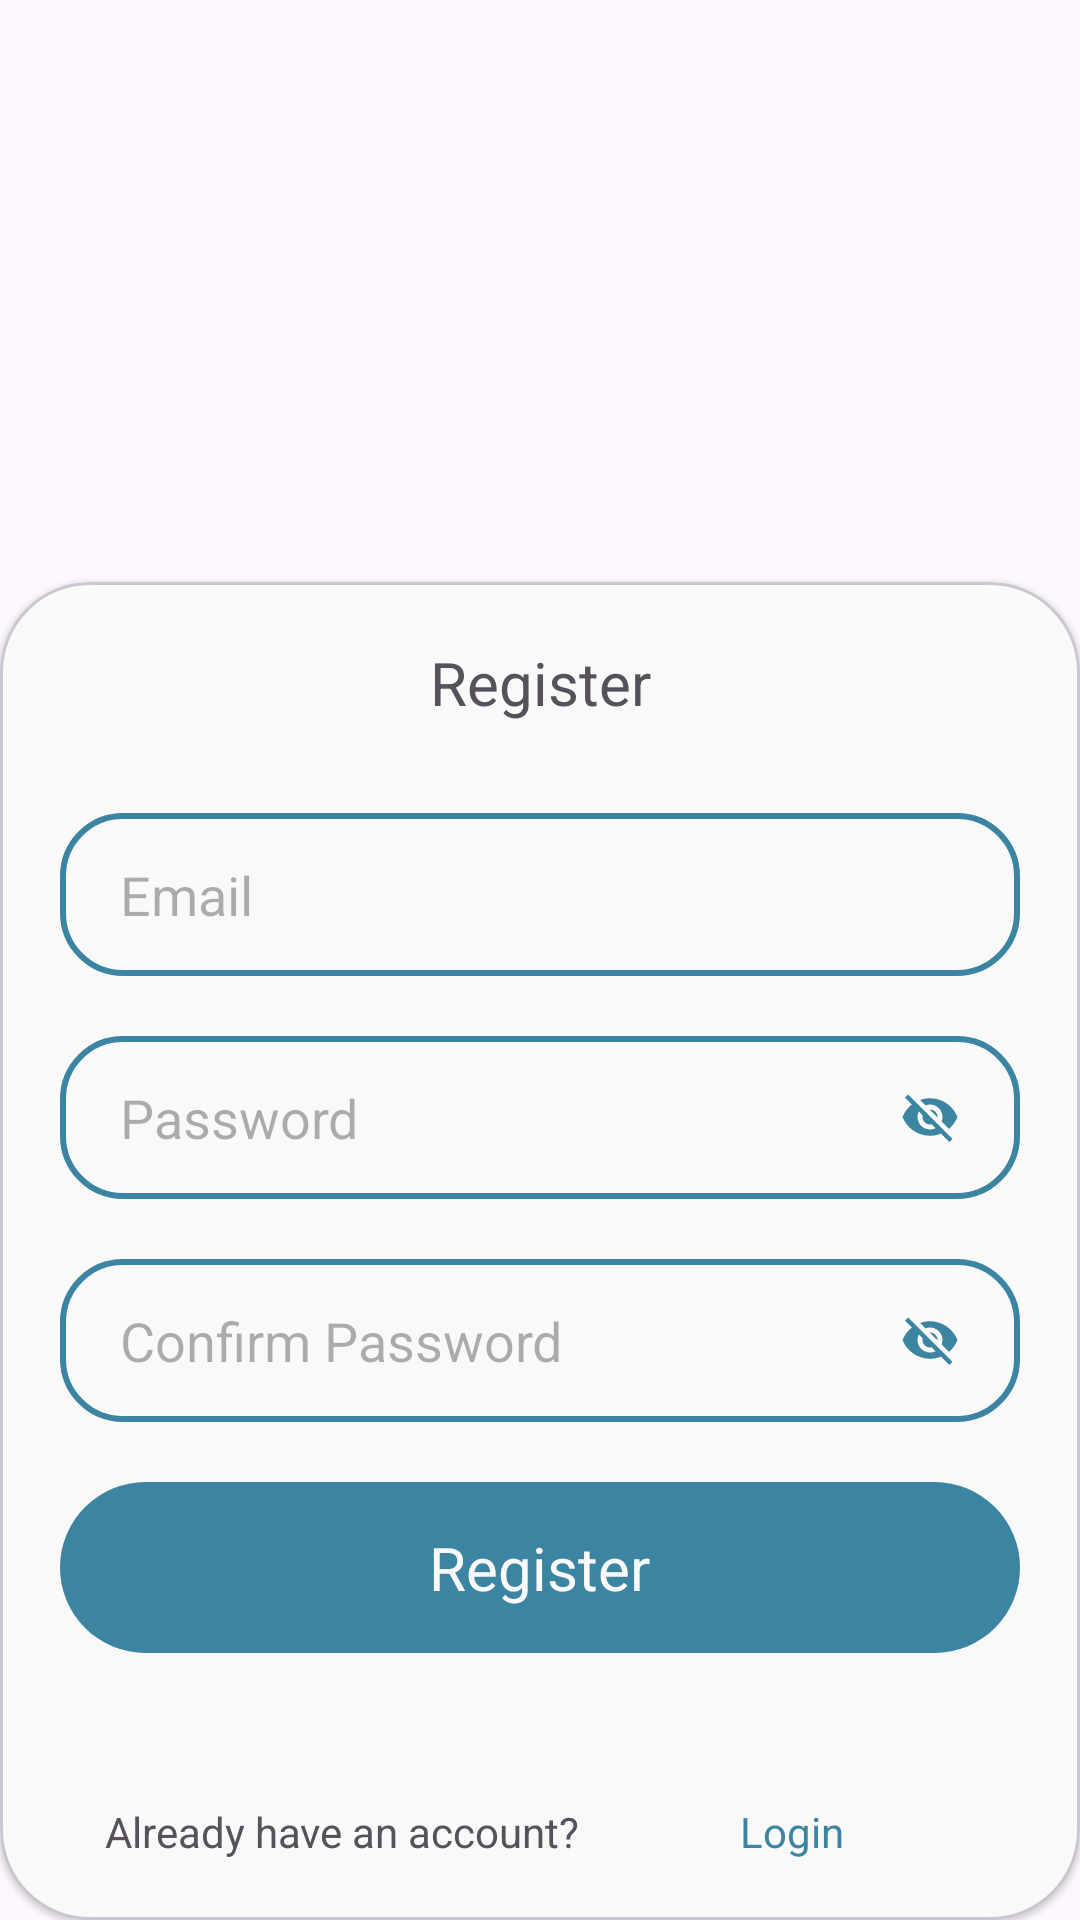

Named icons in this screenshot (1080×1920) and their bounding boxes, (x1, y1, x2, y2):
visibility off: (902, 1094, 958, 1142), (902, 1317, 958, 1365)
